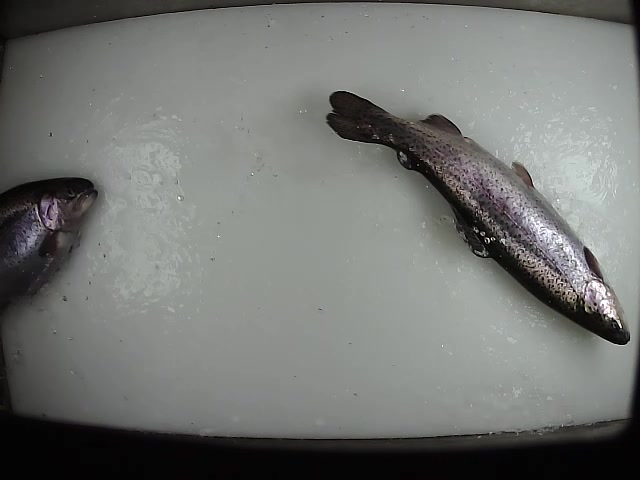fish: (325, 90, 632, 346), (1, 175, 99, 320)
